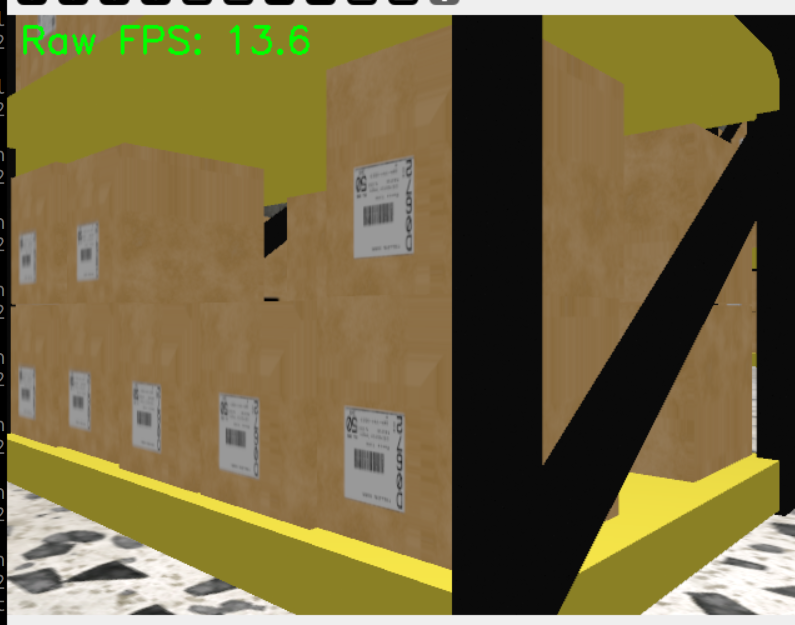barcode: (341, 405, 406, 513), (352, 156, 417, 259), (217, 392, 263, 480), (130, 380, 163, 455), (66, 367, 93, 433), (74, 221, 101, 281), (17, 230, 39, 284), (16, 366, 38, 420)
